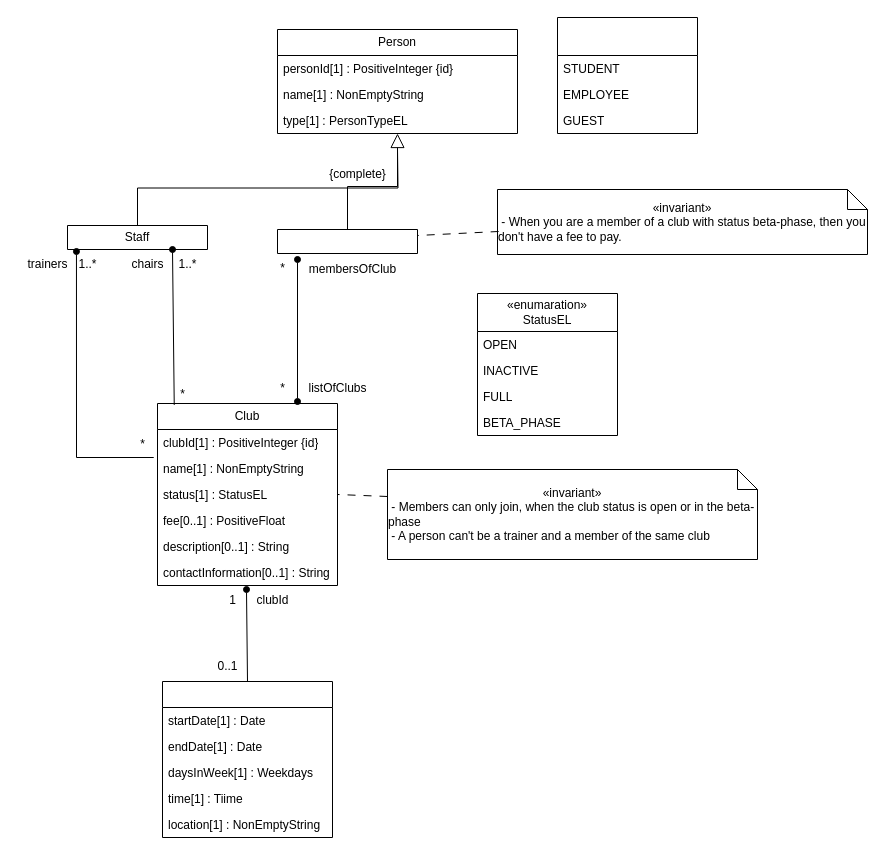
This 885x858 diagram has some shape labels left out. Here are the shapes that lost their labels. From the top down, the box of each, then its label:
(556, 16, 698, 134): «enumaration» PersonTypeEL
(276, 228, 418, 254): Member
(162, 680, 332, 838): Schedule
